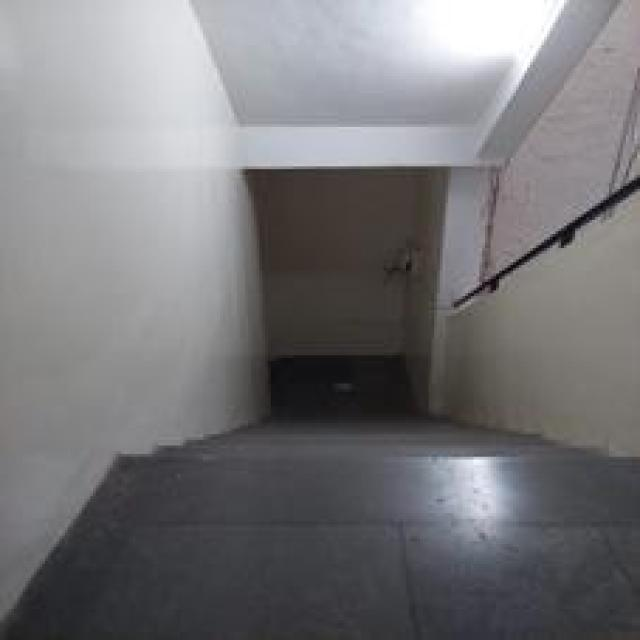downstair: (139, 337, 562, 537)
